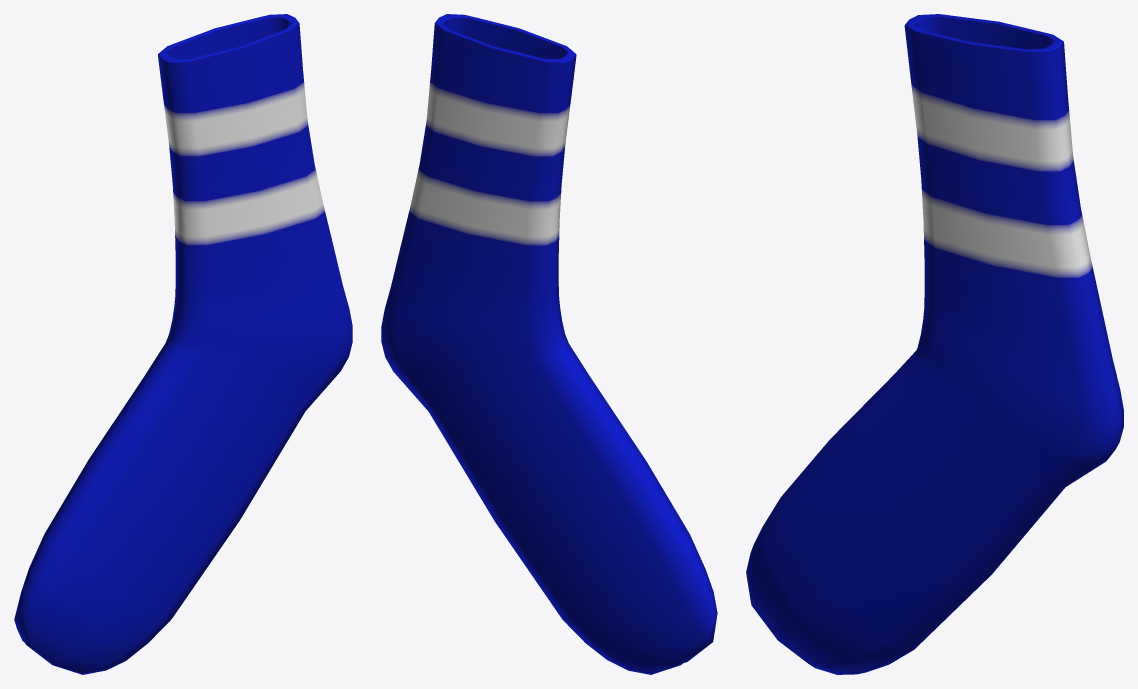
File: wazi.fbx
3 views of the same model, side by side, from view 1: azimuth 30°, elevation 25°; view 2: azimuth 150°, elevation 25°; view 3: azimuth 330°, elevation 25° (orthographic). The views are drawn at different scales.
Parts seen in each view (by area): view 1: wazi; view 2: wazi; view 3: wazi.
Boxes of the visible parts, x1,y1,x2,y2 form: wazi: (14, 14, 352, 674); wazi: (381, 14, 717, 674); wazi: (746, 14, 1123, 674).
Bounding box in the file's own units: 9.68 × 16.9 × 1.63.
